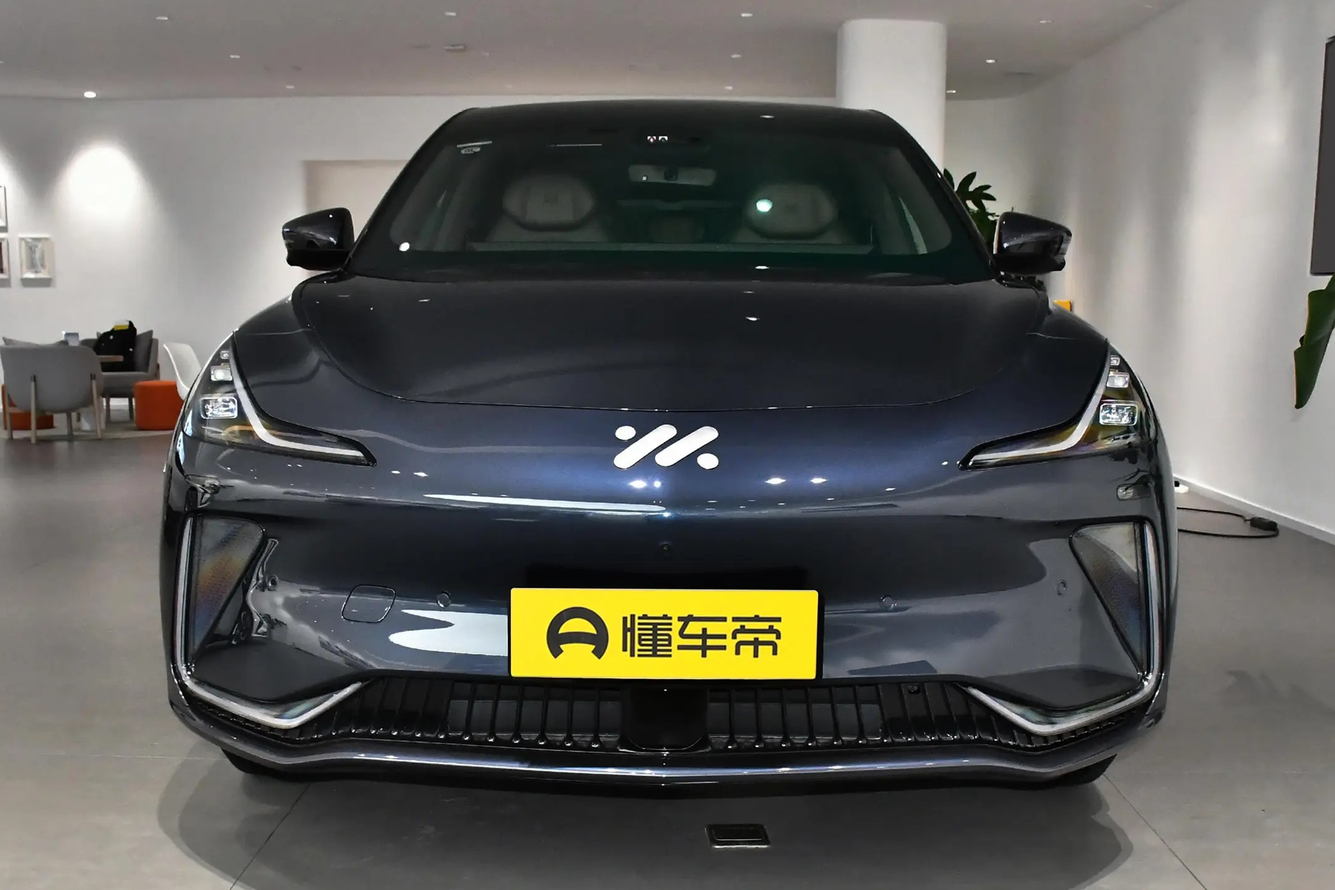IM: (614, 424, 719, 469)
